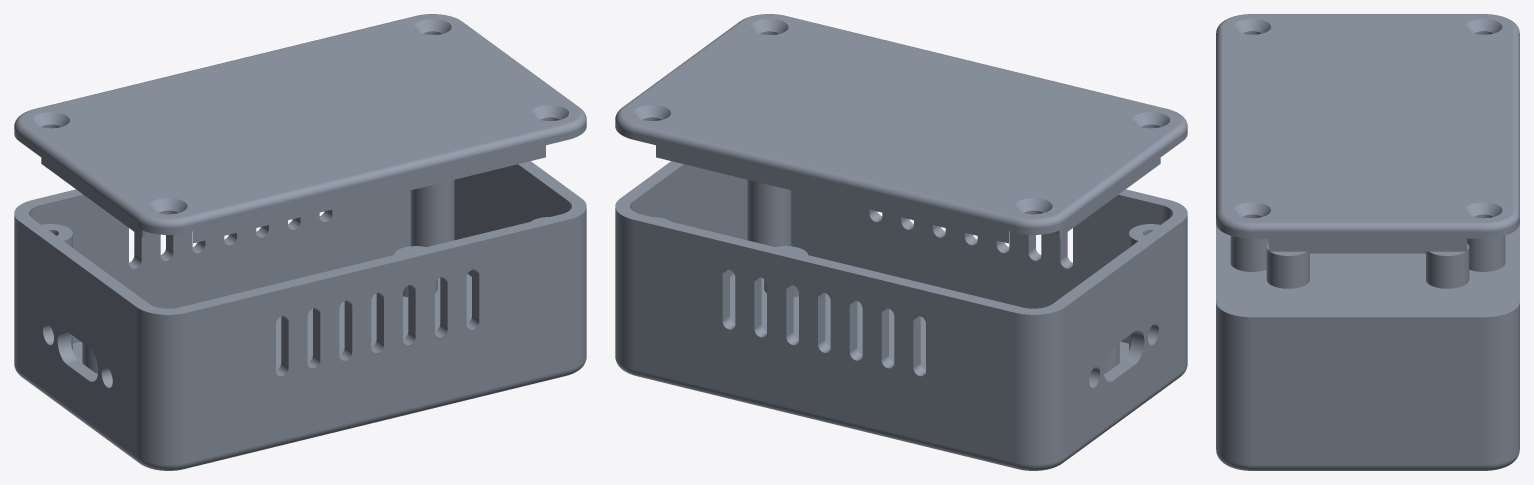
The model's file is step-6-preview-2.glb.
3 renders of one model, left to right at view 1: azimuth 30°, elevation 25°; view 2: azimuth 150°, elevation 25°; view 3: azimuth 270°, elevation 25°, orthographic.
Visible parts, largest first — view 1: preview_128, preview_50, preview_3, preview_47, preview_48, preview_6, preview_1, preview_135, preview_154, preview_52, preview_127, preview_0 (+8 smaller); view 2: preview_128, preview_51, preview_42, preview_47, preview_49, preview_6, preview_1, preview_145, preview_155, preview_53, preview_130, preview_7 (+8 smaller); view 3: preview_128, preview_54, preview_4, preview_52, preview_53, preview_6, preview_149, preview_158, preview_105, preview_133, preview_154, preview_155 (+11 smaller).
Part boxes in pixels (box(x1,y1,x2,y2)): preview_128: box(21, 14, 579, 218); preview_50: box(186, 220, 568, 462); preview_3: box(40, 190, 410, 343); preview_47: box(19, 221, 136, 456); preview_48: box(136, 307, 186, 464); preview_6: box(14, 161, 586, 314); preview_1: box(454, 164, 568, 276); preview_135: box(193, 145, 545, 243); preview_154: box(183, 124, 568, 225); preview_52: box(568, 208, 586, 369); preview_127: box(186, 133, 568, 232); preview_0: box(410, 179, 454, 246); preview_128: box(622, 14, 1180, 218); preview_51: box(633, 220, 1015, 462); preview_42: box(791, 190, 1161, 343); preview_47: box(1065, 221, 1182, 456); preview_49: box(1015, 307, 1065, 464); preview_6: box(615, 161, 1187, 314); preview_1: box(633, 164, 747, 276); preview_145: box(656, 145, 1008, 243); preview_155: box(633, 124, 1018, 225); preview_53: box(615, 208, 633, 369); preview_130: box(633, 133, 1015, 232); preview_7: box(747, 179, 791, 246); preview_128: box(1223, 14, 1512, 222); preview_54: box(1252, 317, 1483, 464); preview_4: box(1230, 253, 1505, 311); preview_52: box(1216, 302, 1252, 464); preview_53: box(1483, 302, 1519, 464); preview_6: box(1216, 224, 1519, 317); preview_149: box(1268, 238, 1467, 251); preview_158: box(1252, 222, 1483, 231); preview_105: box(1252, 464, 1483, 470); preview_133: box(1252, 232, 1483, 238); preview_154: box(1216, 27, 1223, 215); preview_155: box(1512, 27, 1519, 215).
Size of the model in its own units: 0.07 by 0.038 by 0.042.
